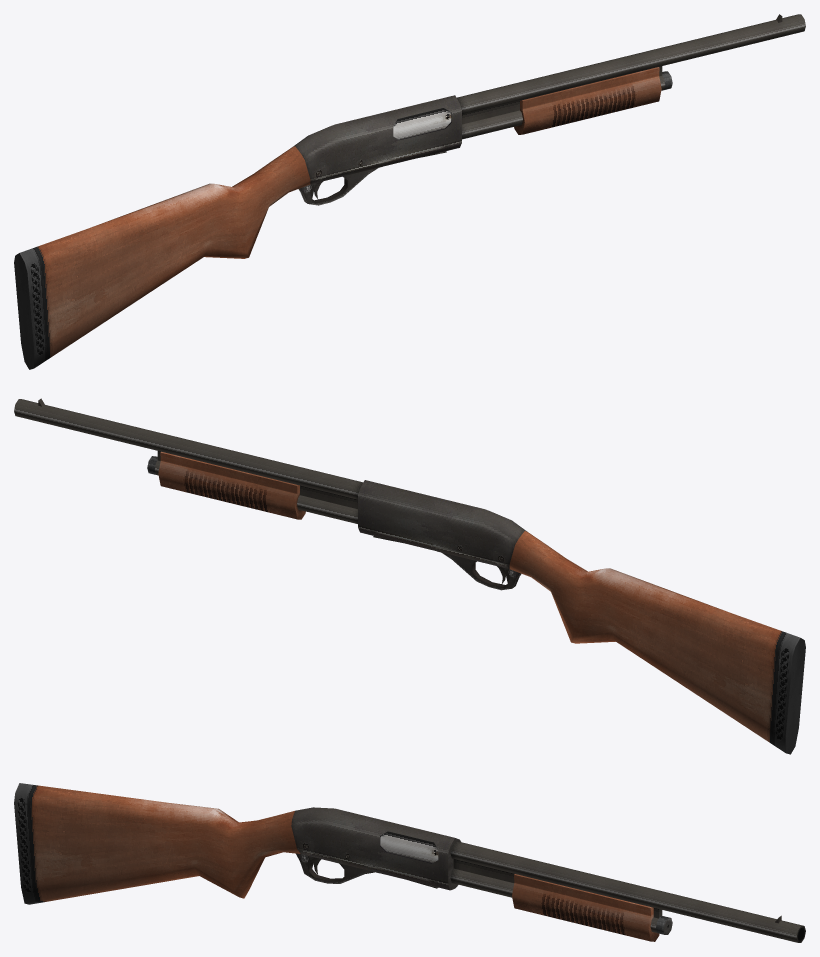
Rendered from shotgun_separate_parts.glb.
3 views of the same model, one above another, from view 1: azimuth 30°, elevation 25°; view 2: azimuth 150°, elevation 25°; view 3: azimuth 330°, elevation 25° (orthographic).
Visible parts, largest first — view 1: shotgun_body, shotgun_forestock, shotgun_ejection; view 2: shotgun_body, shotgun_forestock; view 3: shotgun_body, shotgun_forestock, shotgun_ejection.
Part boxes in pixels (box(x1,y1,x2,y2)): shotgun_body: box(14, 14, 805, 369); shotgun_forestock: box(514, 67, 661, 134); shotgun_ejection: box(393, 108, 451, 139); shotgun_body: box(14, 398, 805, 754); shotgun_forestock: box(158, 451, 305, 519); shotgun_body: box(14, 783, 805, 942); shotgun_forestock: box(512, 874, 659, 941); shotgun_ejection: box(380, 831, 438, 863).
Size of the model in its own units: 1.26 by 0.2654 by 0.0376.
1 material, 1 textured.
